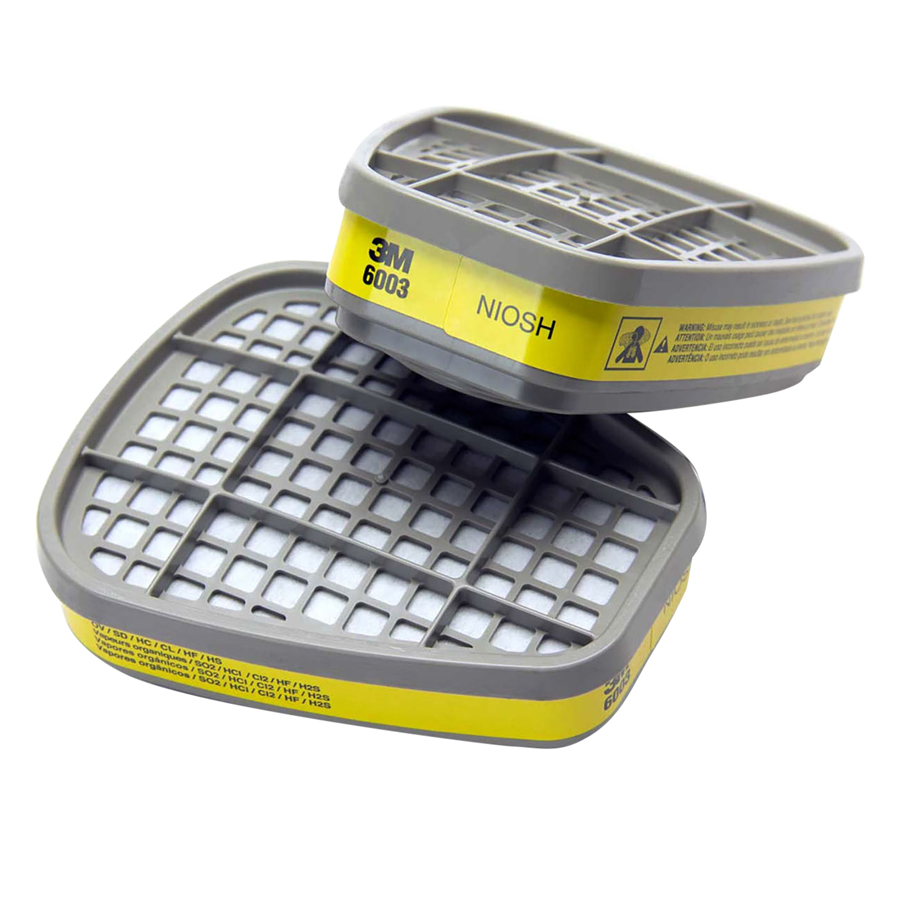3M: (367, 231, 421, 279)
